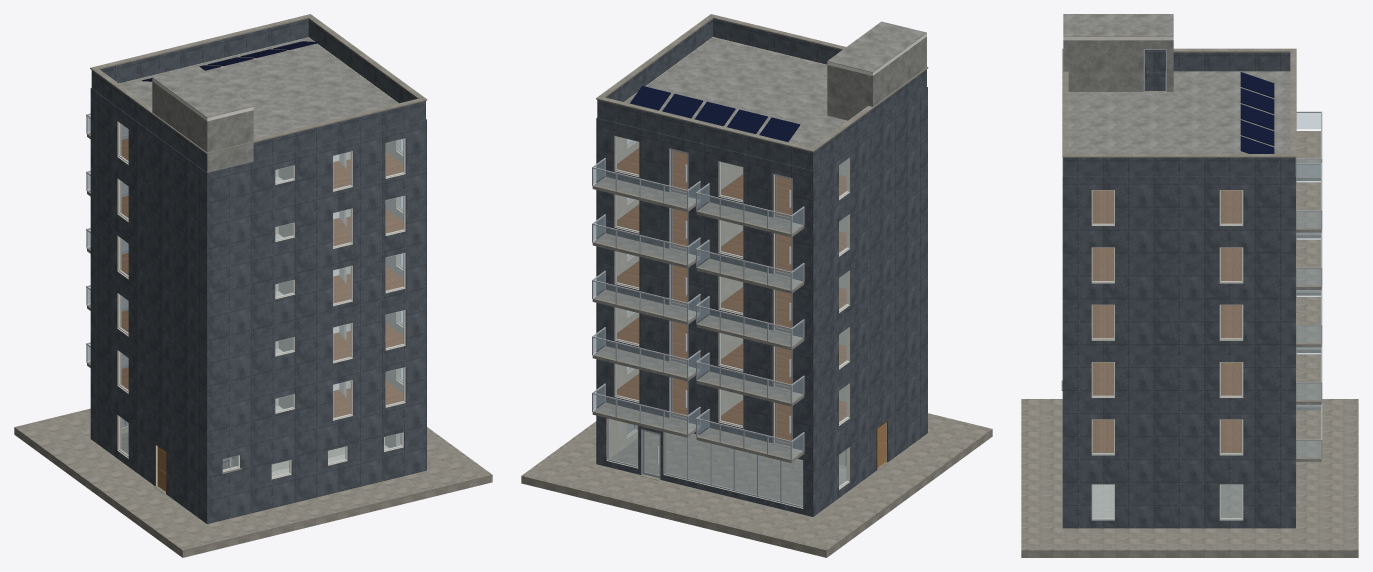
The model's file is b_pod_apartments.gltf.
3 views of the same model, side by side, from view 1: azimuth 30°, elevation 25°; view 2: azimuth 150°, elevation 25°; view 3: azimuth 270°, elevation 25° (orthographic).
Parts seen in each view (by area): view 1: S_pod_apartments; view 2: S_pod_apartments, D_pod_apartments_F1_S2_Door0, D_pod_apartments_F6_S1_Door0, D_pod_apartments_F6_S3_Door0, D_pod_apartments_F2_S1_Door0, D_pod_apartments_F3_S1_Door0, D_pod_apartments_F3_S3_Door0, D_pod_apartments_F5_S3_Door0, D_pod_apartments_F4_S1_Door0, D_pod_apartments_F4_S3_Door0, D_pod_apartments_F5_S1_Door0, D_pod_apartments_F2_S3_Door0; view 3: S_pod_apartments, D_pod_apartments_PH_W0_Door0.
Part boxes in pixels (x1=…): S_pod_apartments: x1=14, y1=14, x2=492, y2=557; S_pod_apartments: x1=521, y1=14, x2=992, y2=557; D_pod_apartments_F1_S2_Door0: x1=643, y1=430, x2=659, y2=478; D_pod_apartments_F6_S1_Door0: x1=671, y1=149, x2=687, y2=194; D_pod_apartments_F6_S3_Door0: x1=775, y1=175, x2=791, y2=220; D_pod_apartments_F2_S1_Door0: x1=671, y1=377, x2=687, y2=420; D_pod_apartments_F3_S1_Door0: x1=671, y1=321, x2=687, y2=364; D_pod_apartments_F3_S3_Door0: x1=775, y1=346, x2=791, y2=389; D_pod_apartments_F5_S3_Door0: x1=775, y1=233, x2=791, y2=276; D_pod_apartments_F4_S1_Door0: x1=671, y1=264, x2=687, y2=307; D_pod_apartments_F4_S3_Door0: x1=775, y1=290, x2=791, y2=332; D_pod_apartments_F5_S1_Door0: x1=671, y1=208, x2=687, y2=251; D_pod_apartments_F2_S3_Door0: x1=775, y1=403, x2=791, y2=445; S_pod_apartments: x1=1021, y1=14, x2=1358, y2=557; D_pod_apartments_PH_W0_Door0: x1=1145, y1=50, x2=1165, y2=90.
Size of the model in its own units: 17 by 21.7 by 16.
18 materials, 10 textured.
